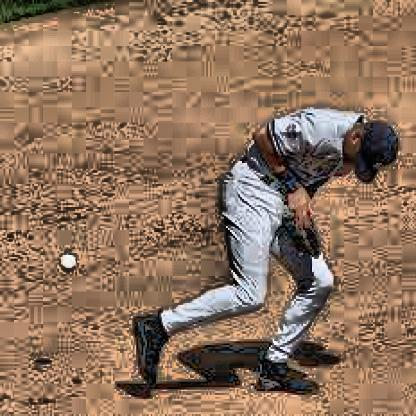baseball: (59, 252, 81, 273)
